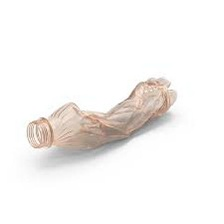bottle: (24, 71, 178, 157)
